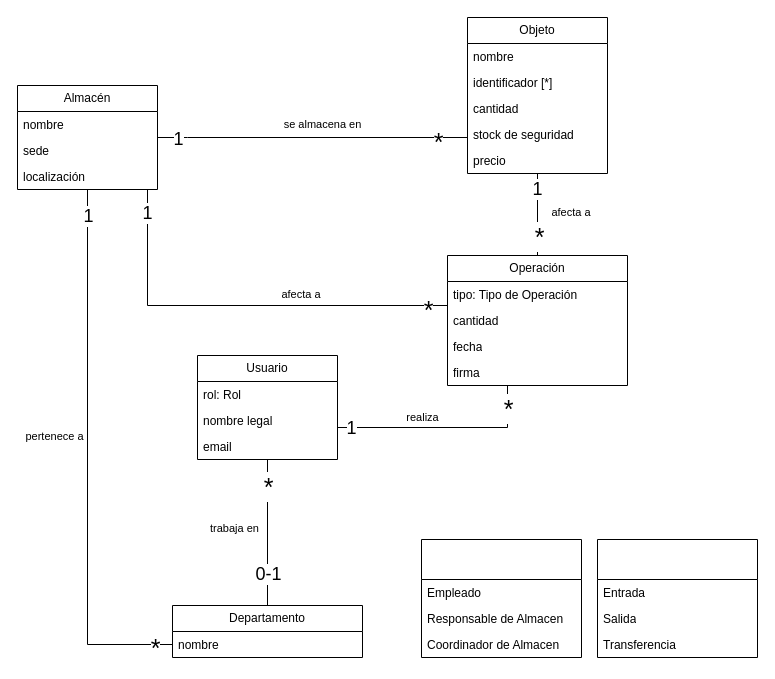
This 775x679 diagram has some shape labels left out. Each missing label, with the box of its shape:
<<Enumeration>> Rol: (420, 538, 582, 658)
<<Enumeration>> Tipo de Operación: (596, 538, 758, 658)
